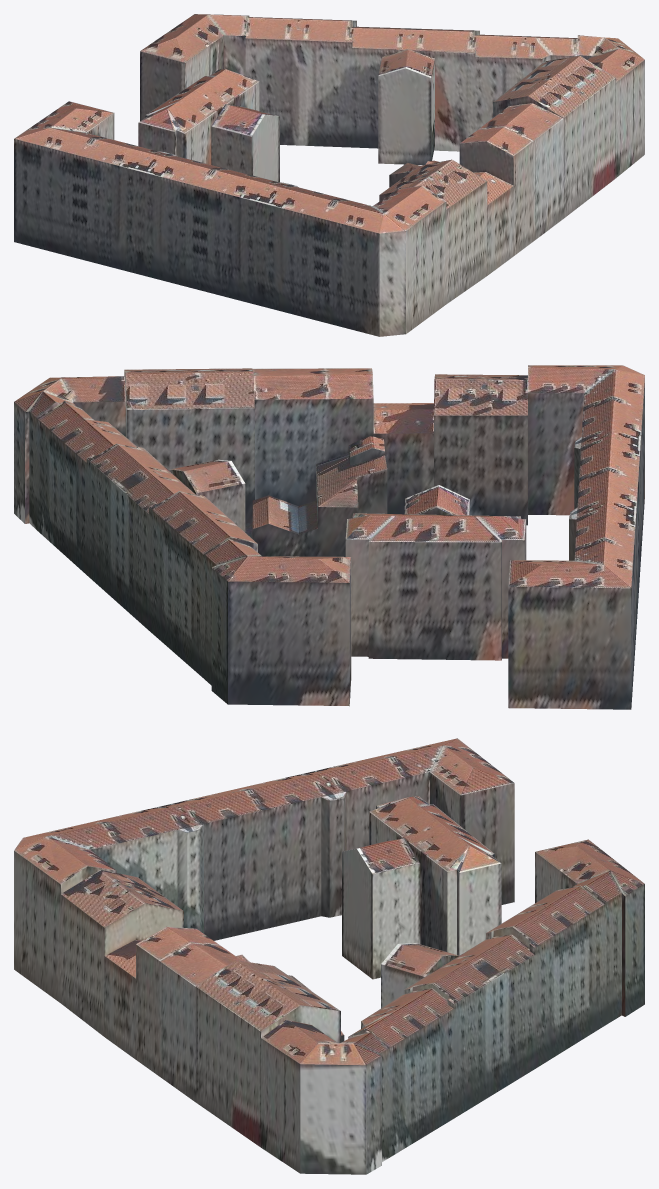
File: LYON_1ER_00083.dae
3 renders of one model, top to bottom at view 1: azimuth 30°, elevation 25°; view 2: azimuth 150°, elevation 25°; view 3: azimuth 270°, elevation 25°, orthographic. The views are drawn at different scales.
Bounding box in the file's own units: 132 × 111 × 26.08.
2 materials, 2 textured.
